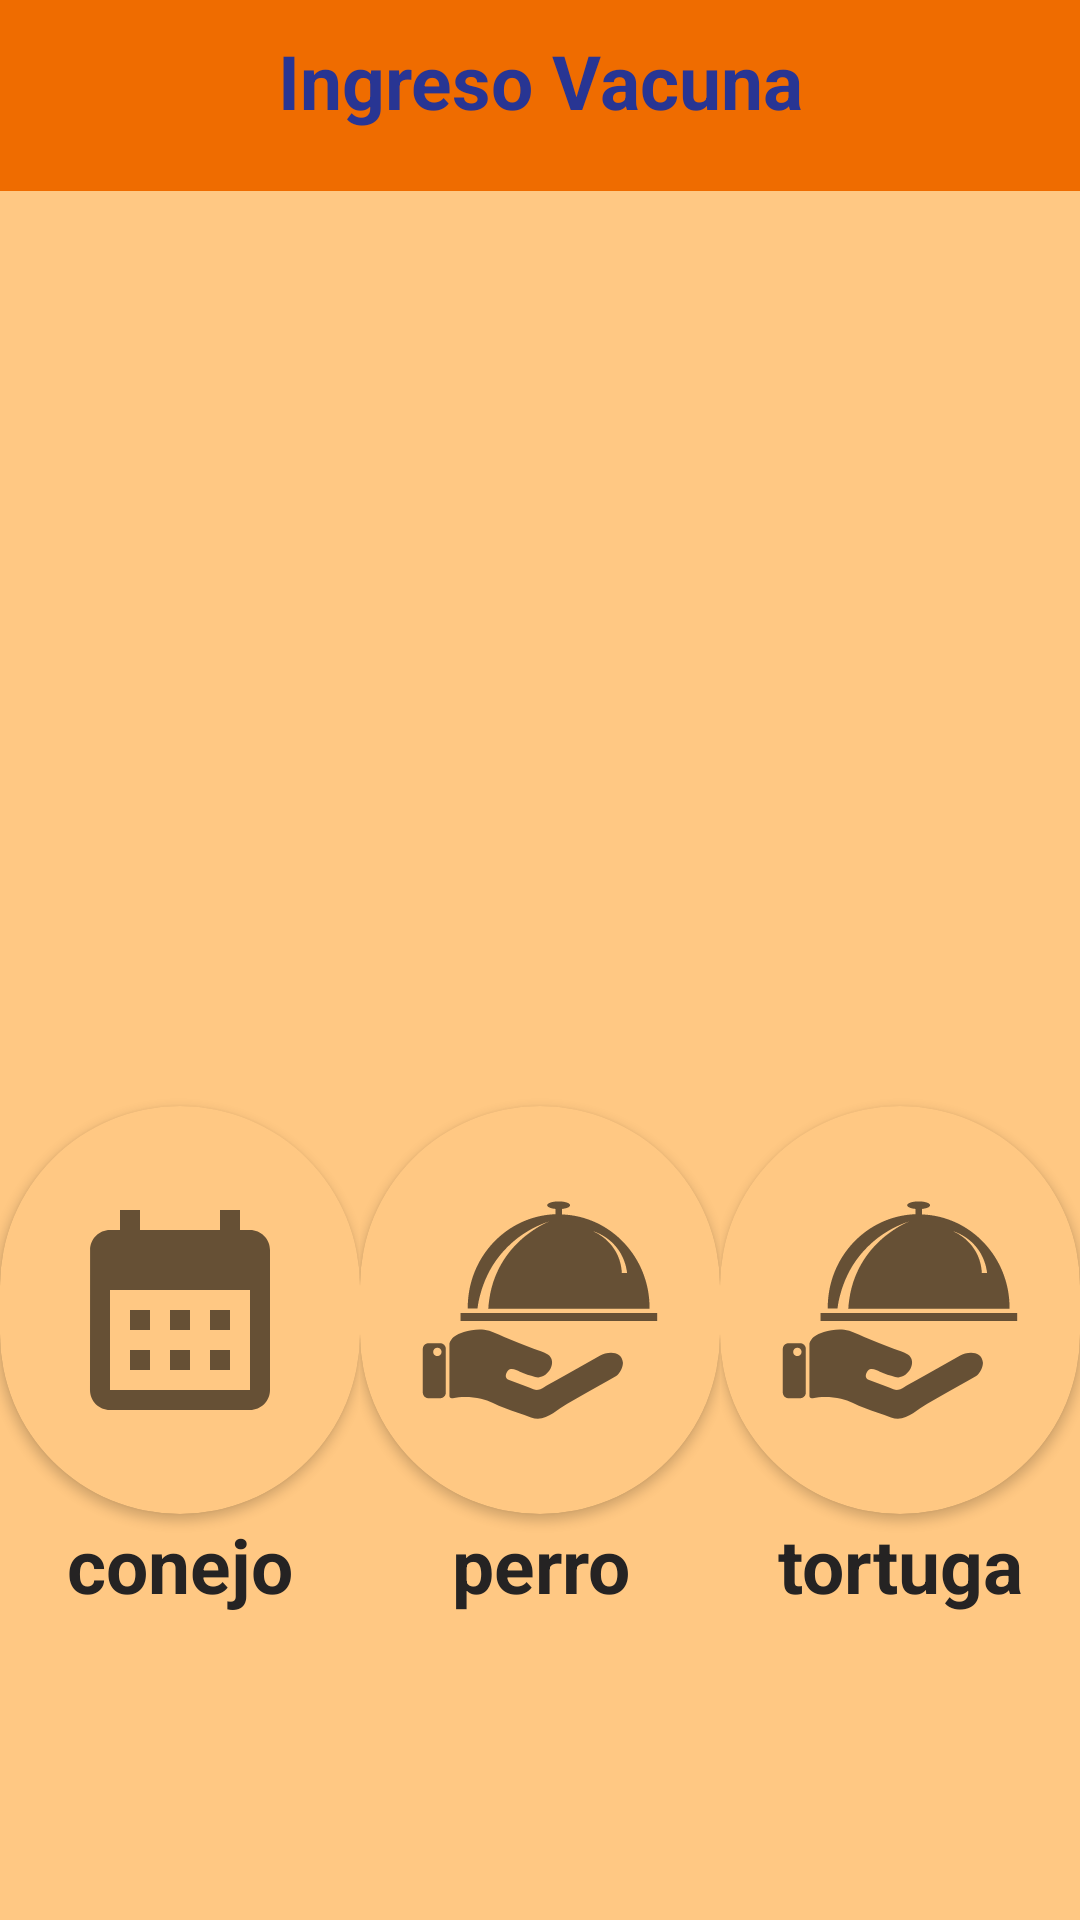

Where to tap for icons on this 1080px×1920px app screen, as [x,y]:
alimentacion: [540,1310], [900,1310]
calendario: [179,1306]
